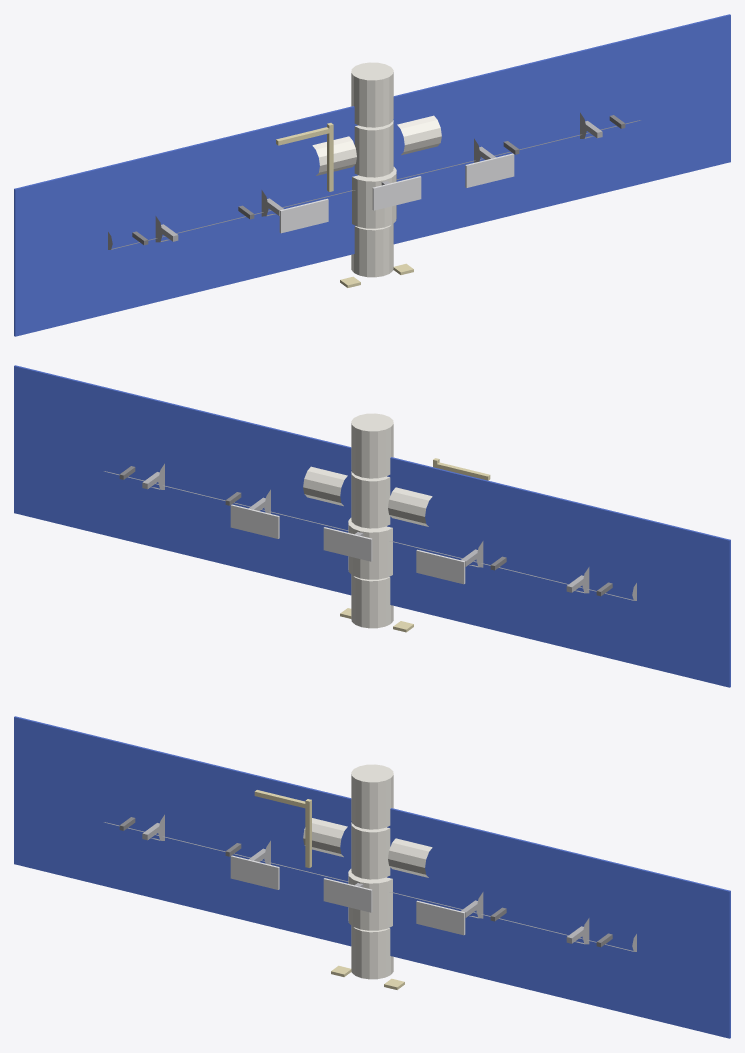
Rendered from iss.glb.
3 views of the same model, one above another, from view 1: azimuth 30°, elevation 25°; view 2: azimuth 150°, elevation 25°; view 3: azimuth 330°, elevation 25° (orthographic).
Parts seen in each view (by area): view 1: iss; view 2: iss; view 3: iss.
Boxes of the visible parts, left/top/right/bottom form: iss: left=14, top=14, right=730, bottom=336; iss: left=14, top=365, right=730, bottom=687; iss: left=14, top=716, right=730, bottom=1038.
Size of the model in its own units: 27 by 7.3 by 3.28.
